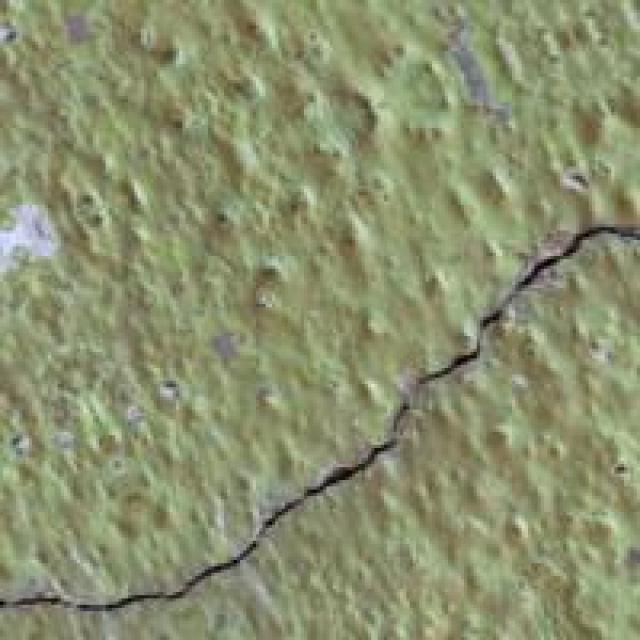crack: (6, 198, 637, 634)
